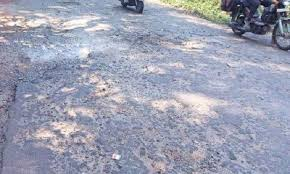potholes: (75, 64, 159, 110)
